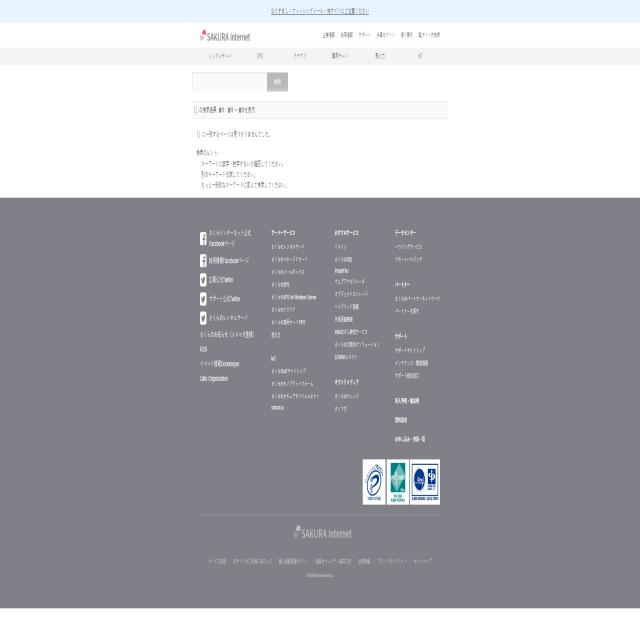menu-bar: (318, 28, 444, 46)
search: (191, 70, 289, 93)
tab-bar: (200, 43, 436, 67)
